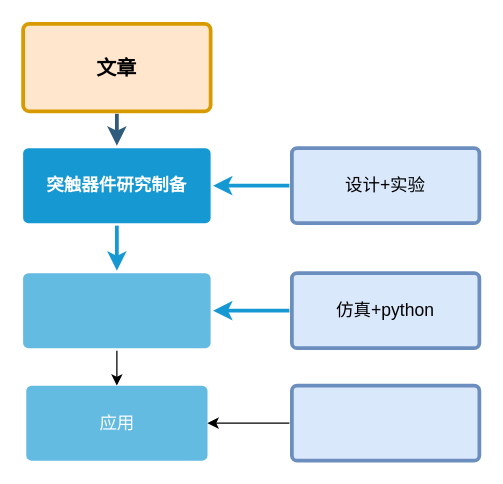
Some shapes in this 503 by 484 pixel diagram are drawn without their labels. Each missing label, with the centre of its shape:
python（SNN）: (x=385, y=422)
神经元: (x=116, y=310)
